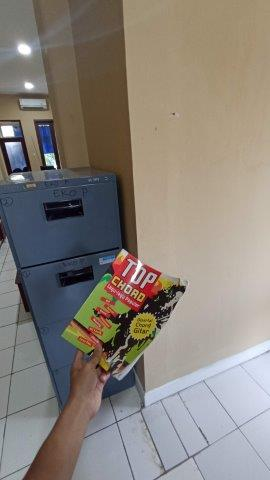kertas: (60, 248, 188, 381)
